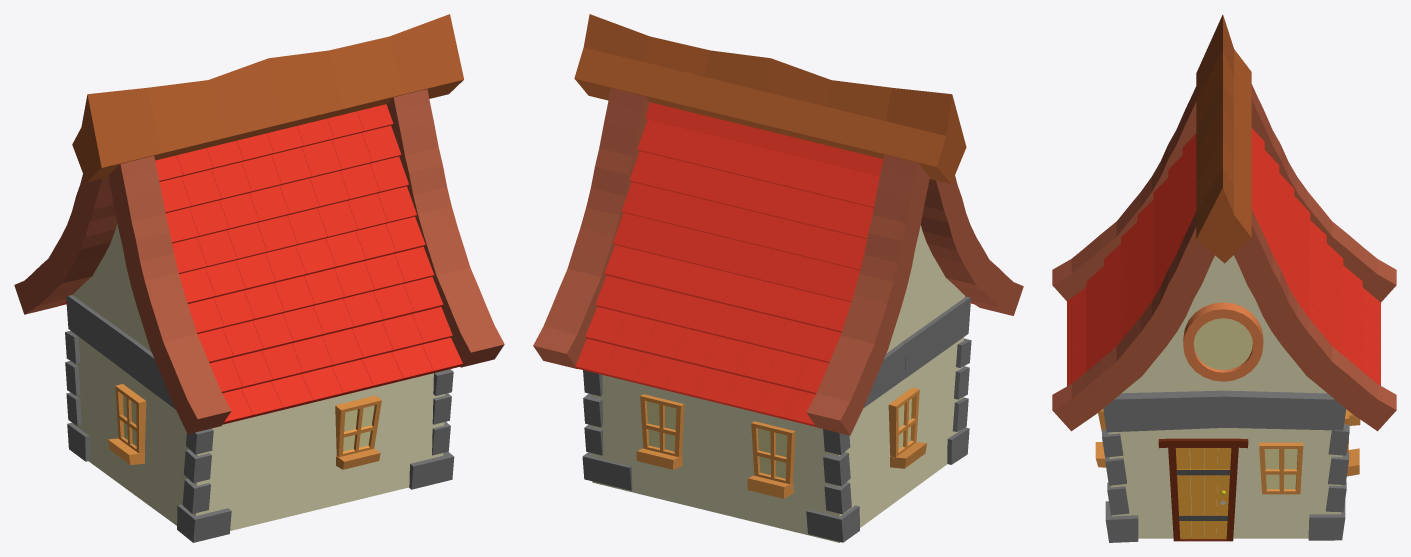
File: house.fbx
3 renders of one model, left to right at view 1: azimuth 30°, elevation 25°; view 2: azimuth 150°, elevation 25°; view 3: azimuth 270°, elevation 25°, orthographic. The views are drawn at different scales.
Parts seen in each view (by area): view 1: Base, Cube.004, Cube.002, Cube.001, Cube.031, Cube.025, Cube.029, Cube.027, Cube.028, Cube.026, Cube.030, Cube.024 (+4 smaller); view 2: Base, Cube.004, Cube.003, Cube, Cube.020, Cube.017, Cube.023, Cube.018, Cube.021, Cube.022, Cube.019, Cube.015 (+5 smaller); view 3: Base, Cube.004, Cube, Cube.001, Windows001, Cube.014, Cube.002, Cube.003, Cube.012, Windows005, Cube.017, Cube.020 (+15 smaller).
Boxes of the visible parts, x1,y1,x2,y2 form: Base: (65, 224, 454, 542); Cube.004: (72, 14, 463, 182); Cube.002: (108, 156, 231, 433); Cube.001: (386, 89, 504, 367); Cube.031: (159, 125, 401, 213); Cube.025: (209, 307, 452, 393); Cube.029: (172, 186, 416, 273); Cube.027: (188, 246, 434, 333); Cube.028: (179, 216, 425, 303); Cube.026: (197, 277, 443, 363); Cube.030: (165, 156, 408, 243); Cube.024: (222, 337, 462, 424); Base: (582, 225, 971, 542); Cube.004: (574, 14, 966, 183); Cube.003: (806, 154, 929, 435); Cube: (533, 88, 649, 368); Cube.020: (613, 213, 859, 302); Cube.017: (585, 307, 828, 394); Cube.023: (637, 119, 879, 207); Cube.018: (595, 275, 841, 363); Cube.021: (621, 182, 866, 270); Cube.022: (629, 151, 873, 239); Cube.019: (604, 245, 850, 332); Cube.015: (575, 339, 815, 426); Base: (1102, 255, 1349, 542); Cube.004: (1196, 14, 1251, 263); Cube: (1234, 209, 1396, 431); Cube.001: (1052, 211, 1214, 431); Windows001: (1183, 302, 1263, 381); Cube.014: (1175, 448, 1231, 538); Cube.002: (1052, 86, 1196, 300); Cube.003: (1251, 84, 1396, 302); Cube.012: (1158, 438, 1248, 541); Windows005: (1259, 442, 1303, 494); Cube.017: (1343, 265, 1362, 371); Cube.020: (1294, 196, 1310, 318).
Size of the model in its own units: 981 by 1074 by 860.
